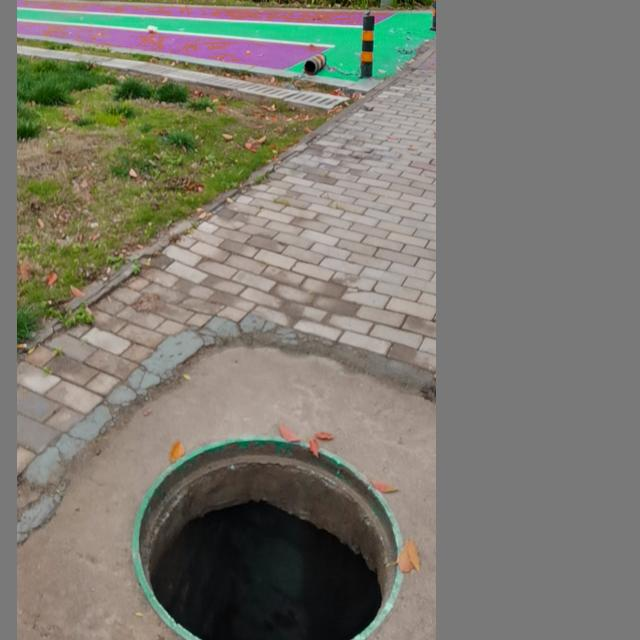lose: (131, 431, 402, 640)
